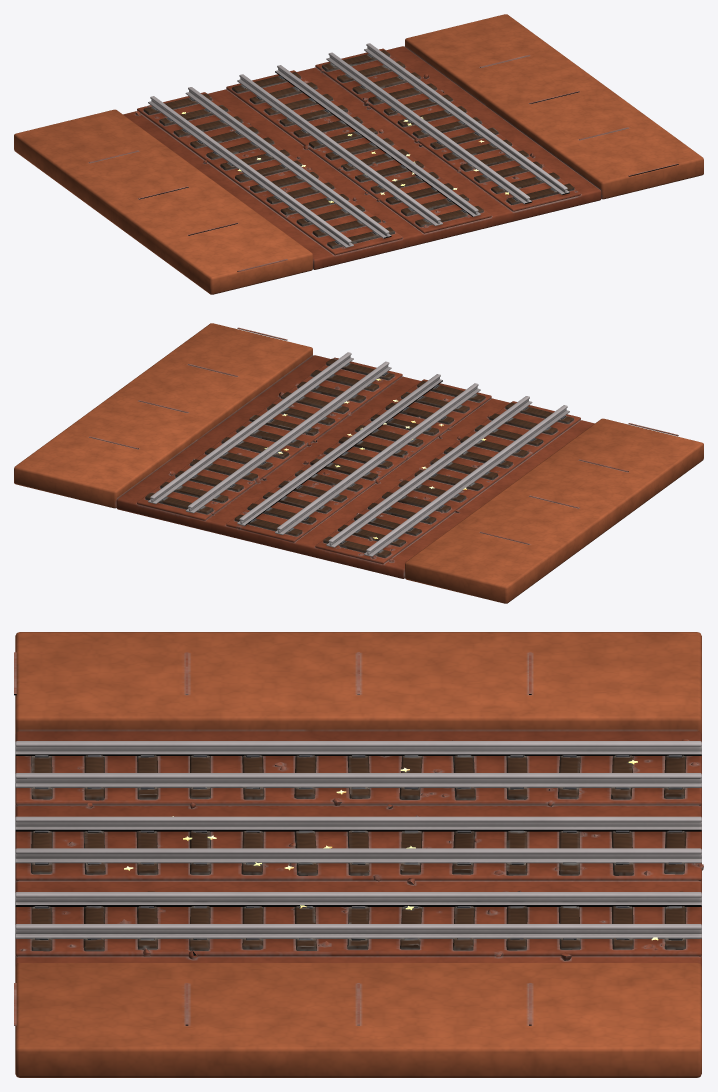
File: rr_track_segment.glb
The picture shows the model from 3 angles, top to bottom: view 1: azimuth 30°, elevation 25°; view 2: azimuth 150°, elevation 25°; view 3: azimuth 270°, elevation 25°; orthographic projection. The views are drawn at different scales.
Parts seen in each view (by area): view 1: rr_track_segment; view 2: rr_track_segment; view 3: rr_track_segment.
Boxes of the visible parts, x1,y1,x2,y2 form: rr_track_segment: (14, 14, 703, 294); rr_track_segment: (14, 323, 703, 603); rr_track_segment: (14, 632, 703, 1077).
Bounding box in the file's own units: 14.4 × 0.5925 × 10.05.
7 materials, 7 textured.
